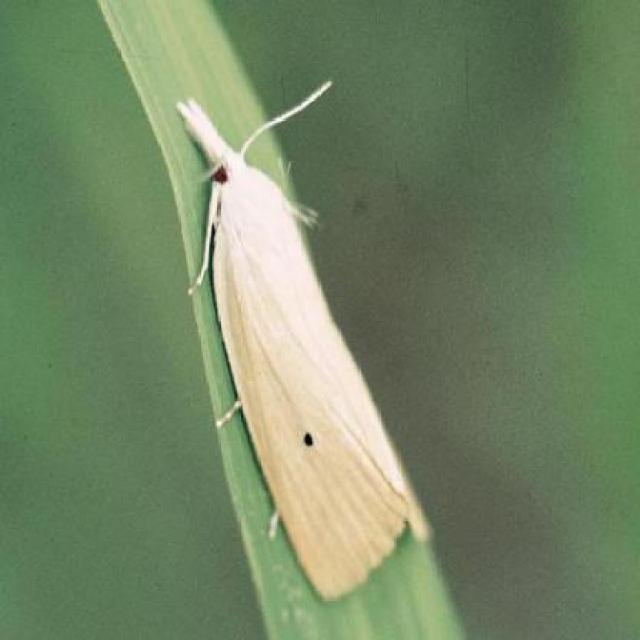stem-borer: (168, 81, 438, 607)
